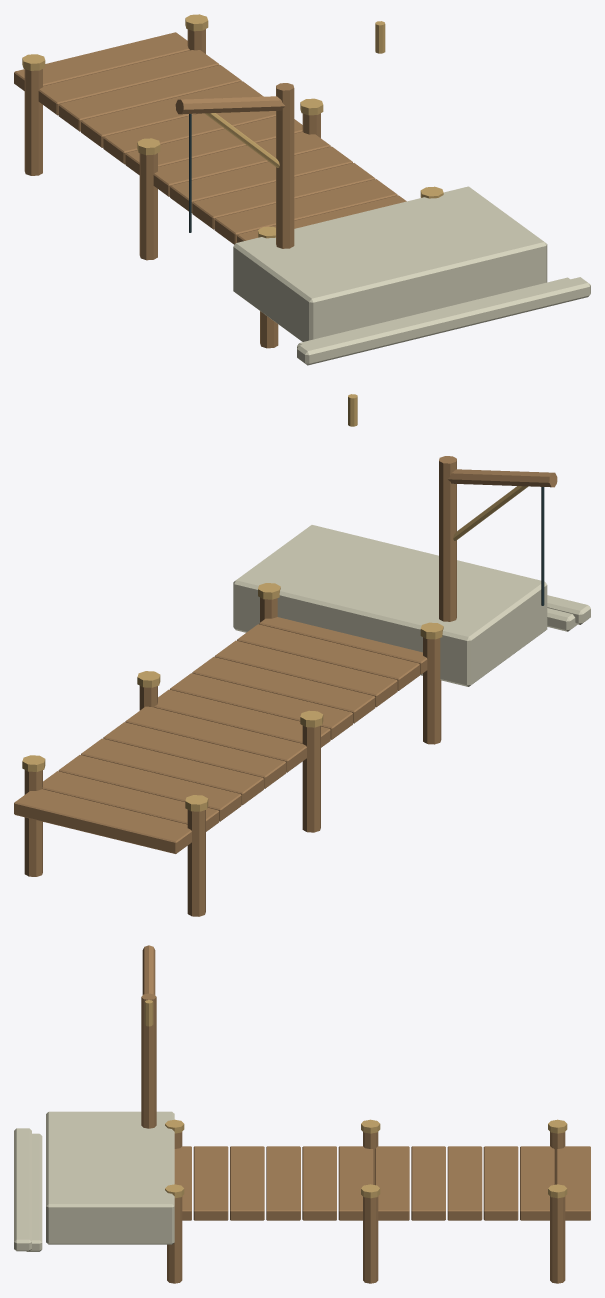
The model's file is level_14.glb.
The picture shows the model from 3 angles, top to bottom: view 1: azimuth 30°, elevation 25°; view 2: azimuth 150°, elevation 25°; view 3: azimuth 270°, elevation 25°; orthographic projection. The views are drawn at different scales.
Visible parts, largest first — view 1: dock — level 14; view 2: dock — level 14; view 3: dock — level 14.
Boxes of the visible parts, x1,y1,x2,y2 form: dock — level 14: [14, 14, 590, 365]; dock — level 14: [14, 394, 590, 916]; dock — level 14: [14, 945, 590, 1283].
Bounding box in the file's own units: 4.84 × 4.32 × 8.98.
